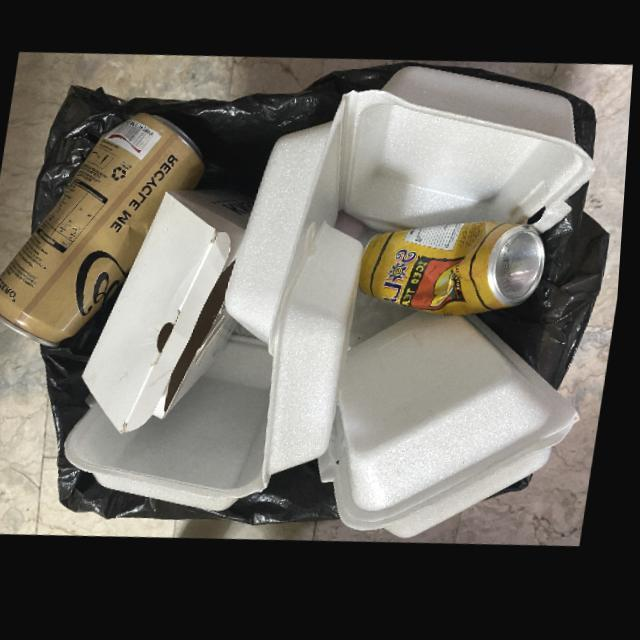metal: (0, 113, 208, 346), (362, 227, 549, 322)
paper: (87, 190, 257, 435)
styrofoam: (230, 70, 598, 362), (324, 317, 586, 543), (69, 335, 278, 514), (268, 224, 367, 489)
